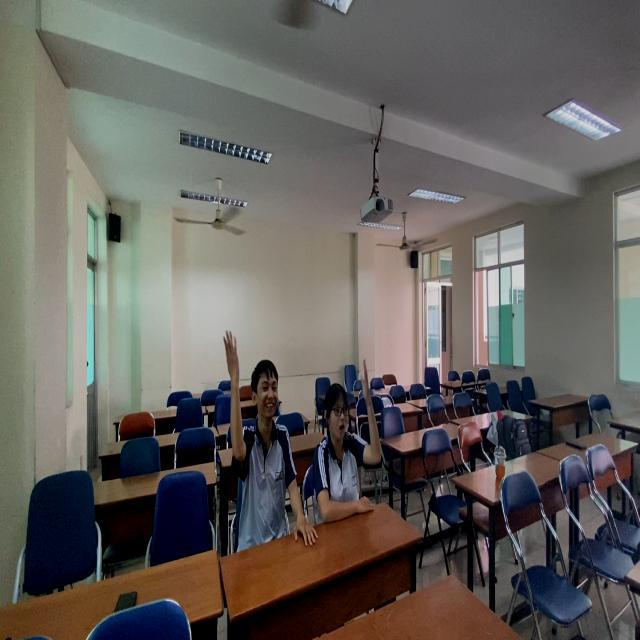raise_hand: (222, 329, 297, 525), (322, 361, 387, 532)
